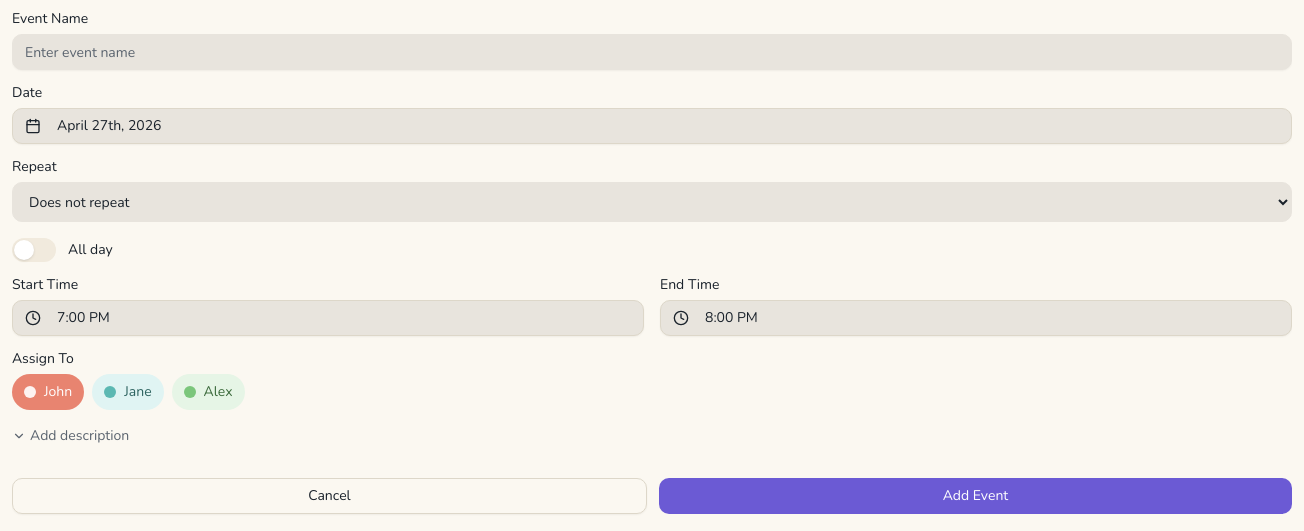
Test case: EventForm › All Day Toggle › shows time pickers again when all-day is toggled off
# Toggle on then off
Click the switch at (34, 250), box [12,238,56,262]
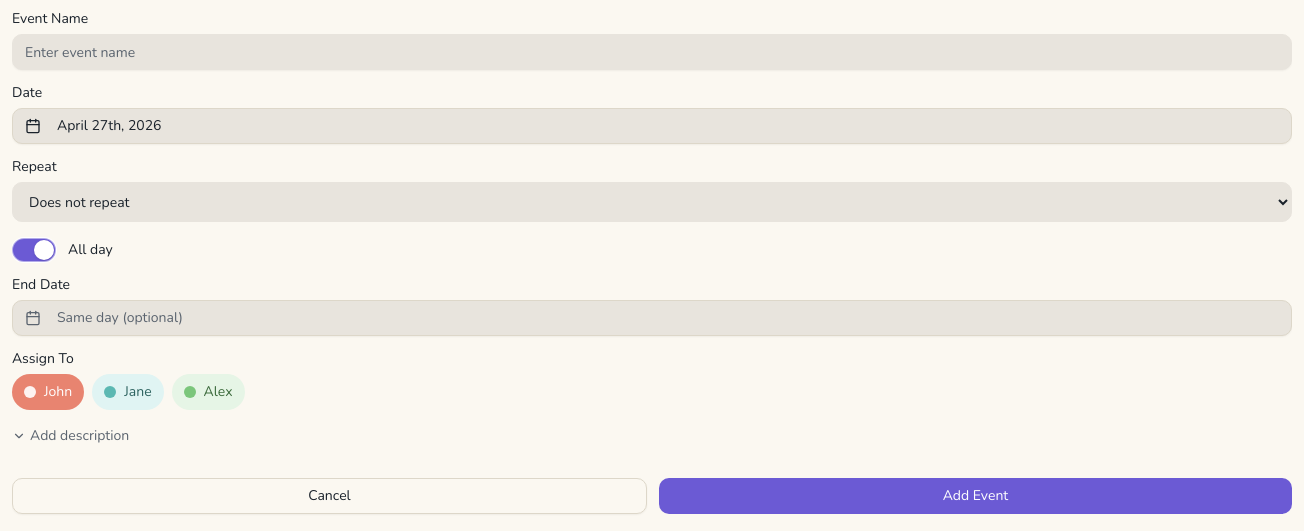
Now the text "Start Time" is gone
Click the switch at (34, 250), box [12,238,56,262]
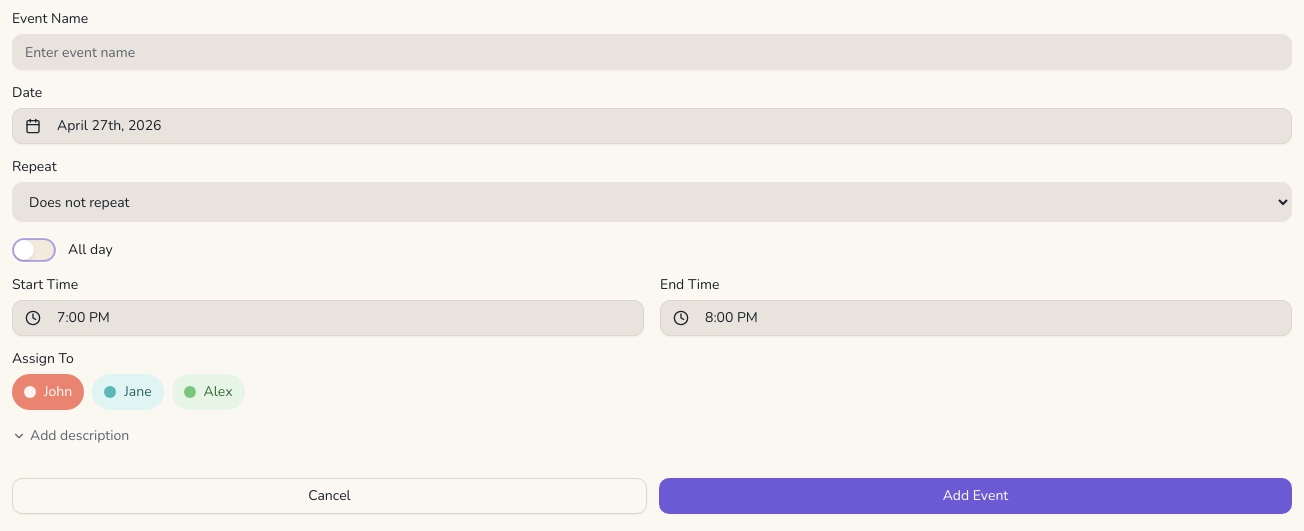
Now the text "Start Time" is shown, box [12,275,78,294]
Now the text "End Time" is shown, box [660,275,719,294]
